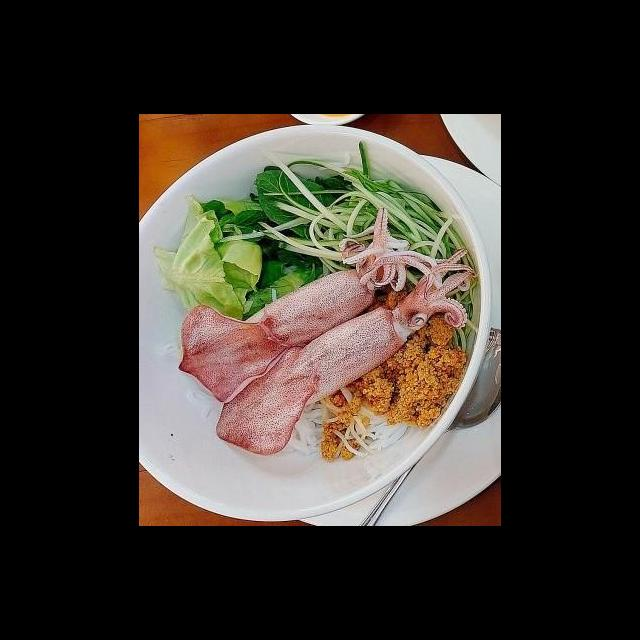bun: (275, 382, 413, 463)
muc: (209, 242, 483, 458), (175, 204, 462, 406)
